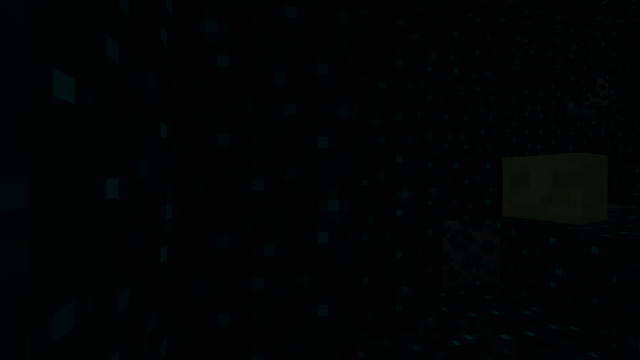slimes: (510, 150, 618, 223)
